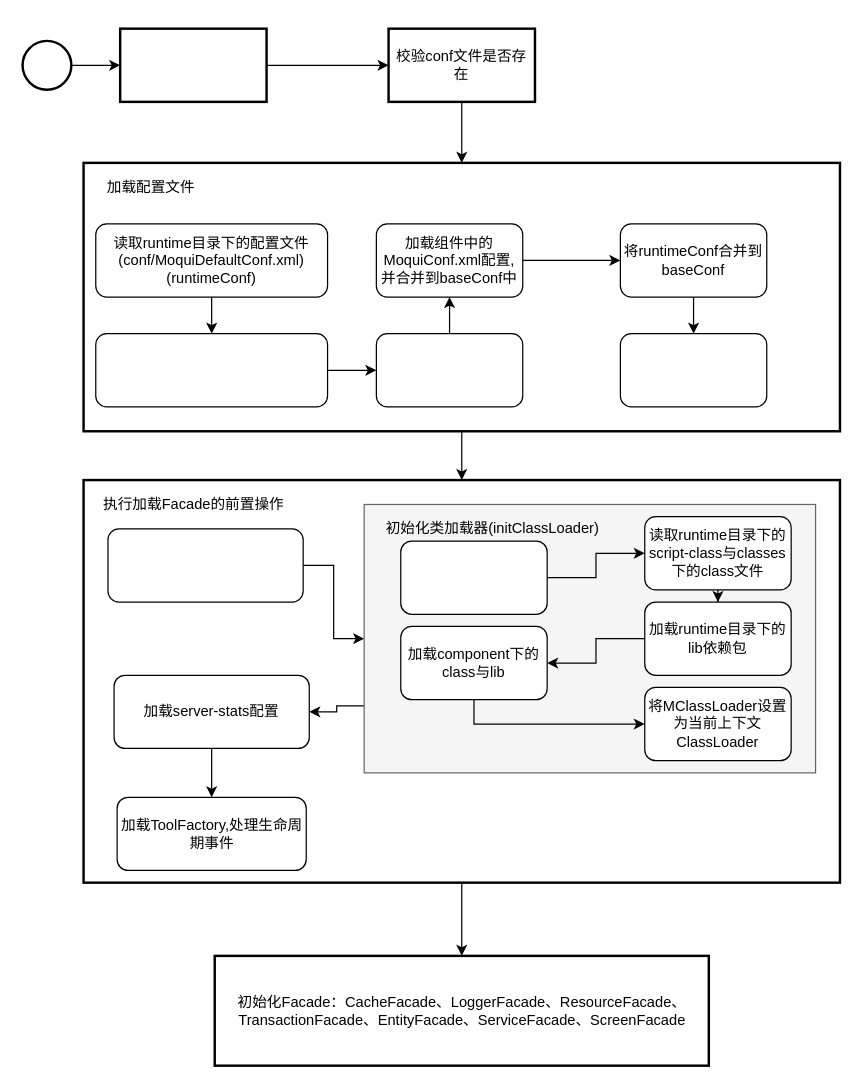
This 861x1087 diagram has some shape labels left out. Here are the shapes that lost their labels. From the top down, the box of each, then its label:
(118, 27, 267, 102): 校验runtime路径
(95, 332, 328, 407): 加载resource目录下的MoquiDefaultConf配置(baseConf)
(375, 332, 523, 407): 扫描component-list组件
(619, 332, 767, 407): 设置默认的系统env变量
(107, 528, 303, 602): 将最终的配置文件存储到log/MoquiActualConf.xml中
(400, 540, 547, 614): 初始化类加载器(MClassLoader、GroovyClassLoader)
